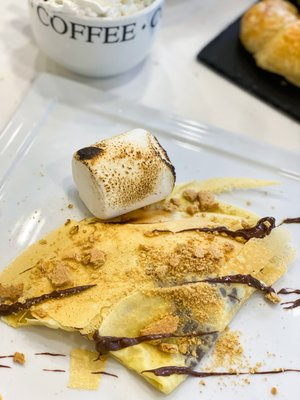pizza: (29, 0, 166, 79)
soup: (1, 212, 300, 389)
